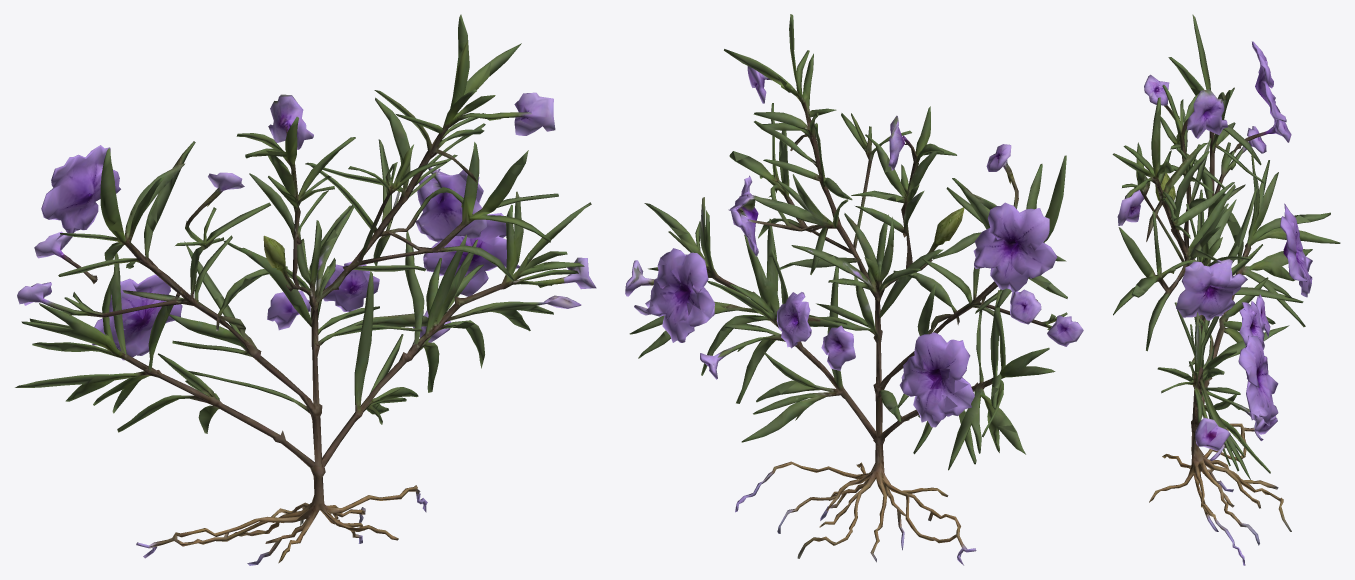
Rendered from flor_stelenes_2.fbx.
3 views of the same model, side by side, from view 1: azimuth 30°, elevation 25°; view 2: azimuth 150°, elevation 25°; view 3: azimuth 270°, elevation 25° (orthographic). The views are drawn at different scales.
Visible parts, largest first — view 1: tripo_node_10d8700e; view 2: tripo_node_10d8700e; view 3: tripo_node_10d8700e.
Part boxes in pixels (box(x1,y1,x2,y2)): tripo_node_10d8700e: box(15, 14, 596, 565); tripo_node_10d8700e: box(625, 14, 1083, 565); tripo_node_10d8700e: box(1112, 14, 1340, 565).
Size of the model in its own units: 5.3 by 5.06 by 2.22.
Materials: 1 (1 with a texture image).
